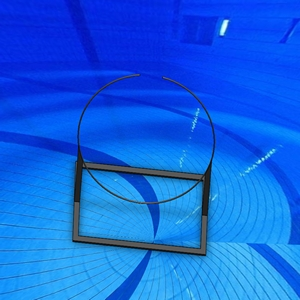circle: (72, 73, 217, 258)
